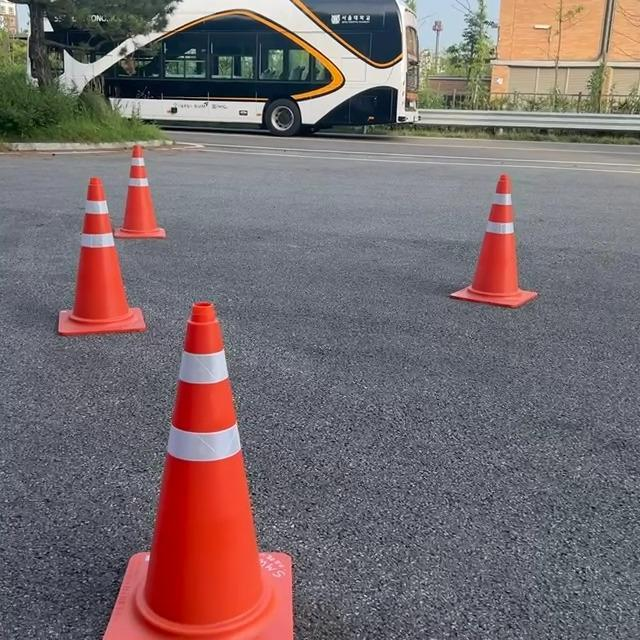fallen_object: (97, 307, 365, 640), (395, 149, 580, 333), (32, 97, 219, 272), (20, 179, 157, 351)
